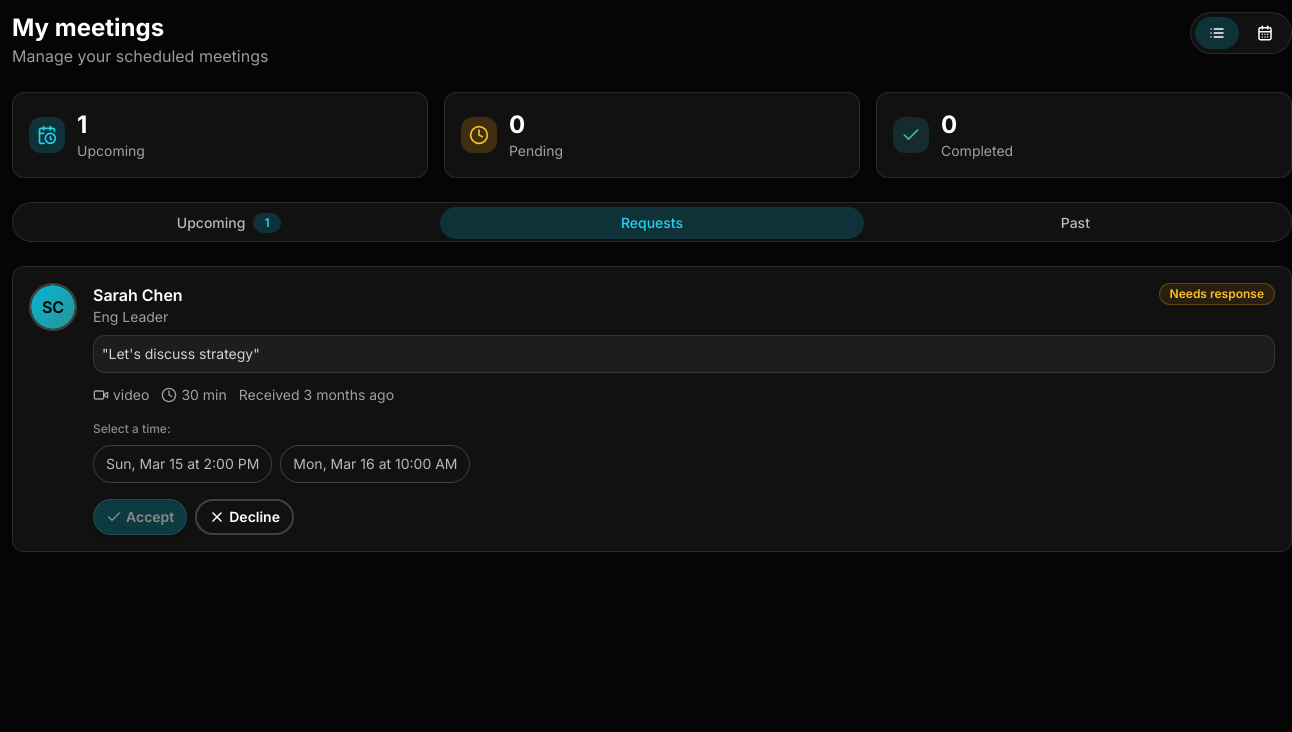
MeetingsContainer › should show upcoming meeting with join link
Note: Switch to upcoming tab
Click the tab "Upcoming 1". click: (229, 223)
box: [17,207,440,239]
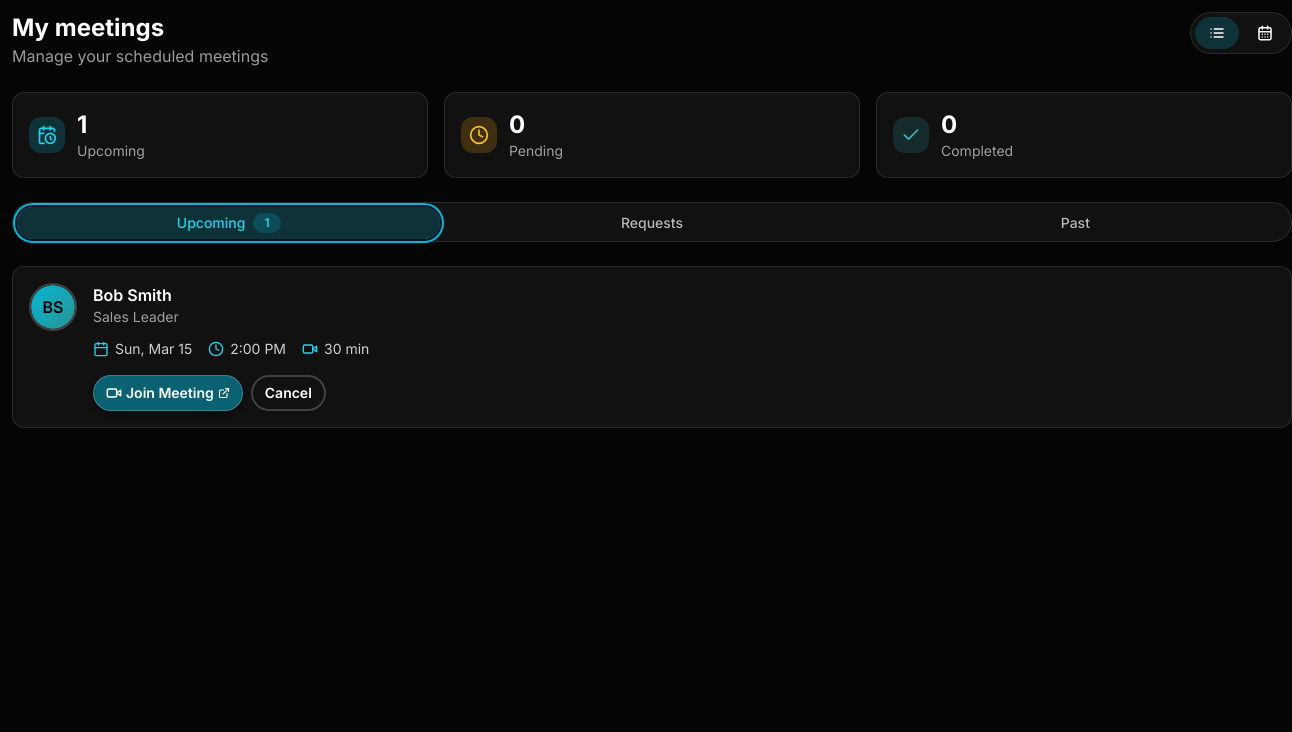
Expected: the link "Join Meeting" is shown, [93,375,243,411]
